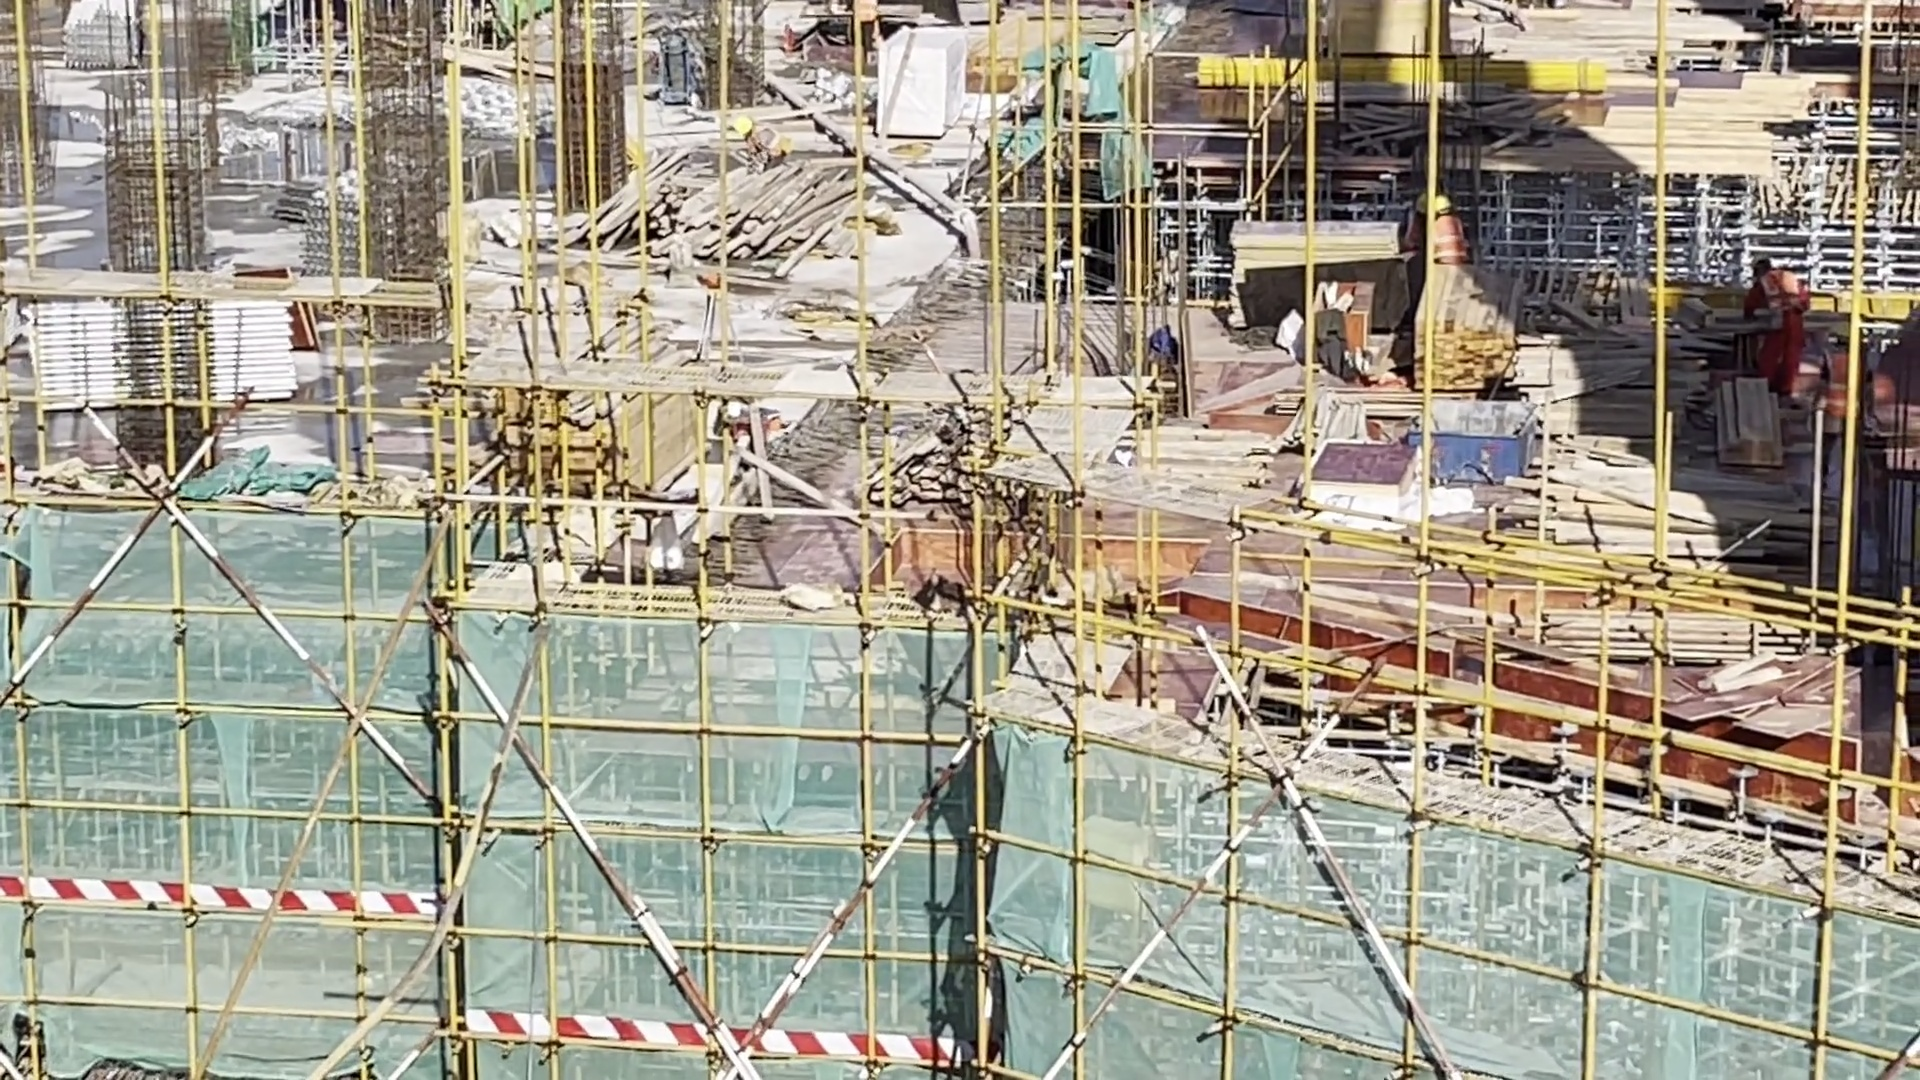board: (1675, 638, 1885, 760)
helmet: (716, 399, 744, 427), (1429, 197, 1458, 223), (1829, 325, 1854, 347), (731, 112, 751, 135)
hopper: (1414, 393, 1533, 481)
person: (1819, 317, 1870, 491), (1746, 259, 1816, 379), (706, 396, 789, 460), (732, 120, 788, 180), (1427, 188, 1473, 260)
scaffold: (28, 298, 312, 415)
vest: (1744, 276, 1804, 335), (1826, 350, 1852, 419), (1431, 213, 1465, 256)
wood: (599, 163, 897, 304), (1533, 590, 1762, 681), (1406, 274, 1530, 396)
